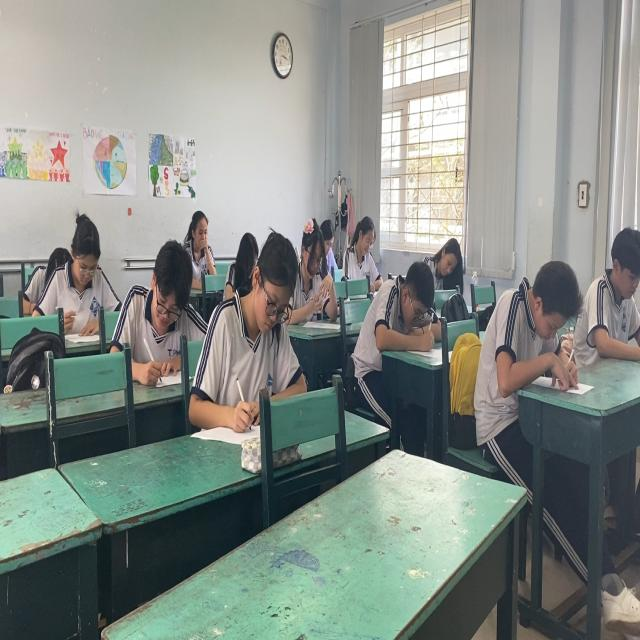not_cheating: (210, 225, 294, 412), (116, 236, 201, 364), (490, 254, 574, 381), (37, 211, 121, 326), (581, 229, 640, 353), (354, 264, 432, 354), (292, 208, 337, 322), (342, 208, 382, 288), (178, 208, 214, 278), (427, 236, 465, 287)
